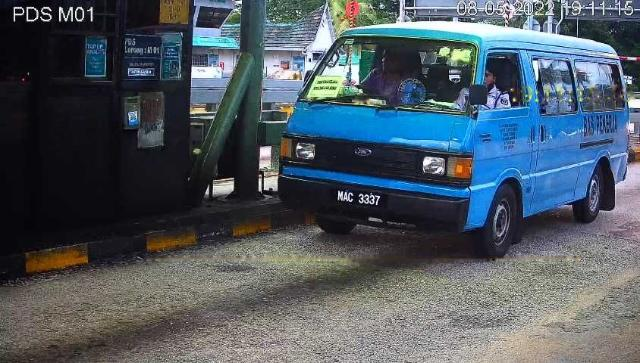License_Plate: (332, 189, 388, 211)
van: (279, 23, 631, 259)
